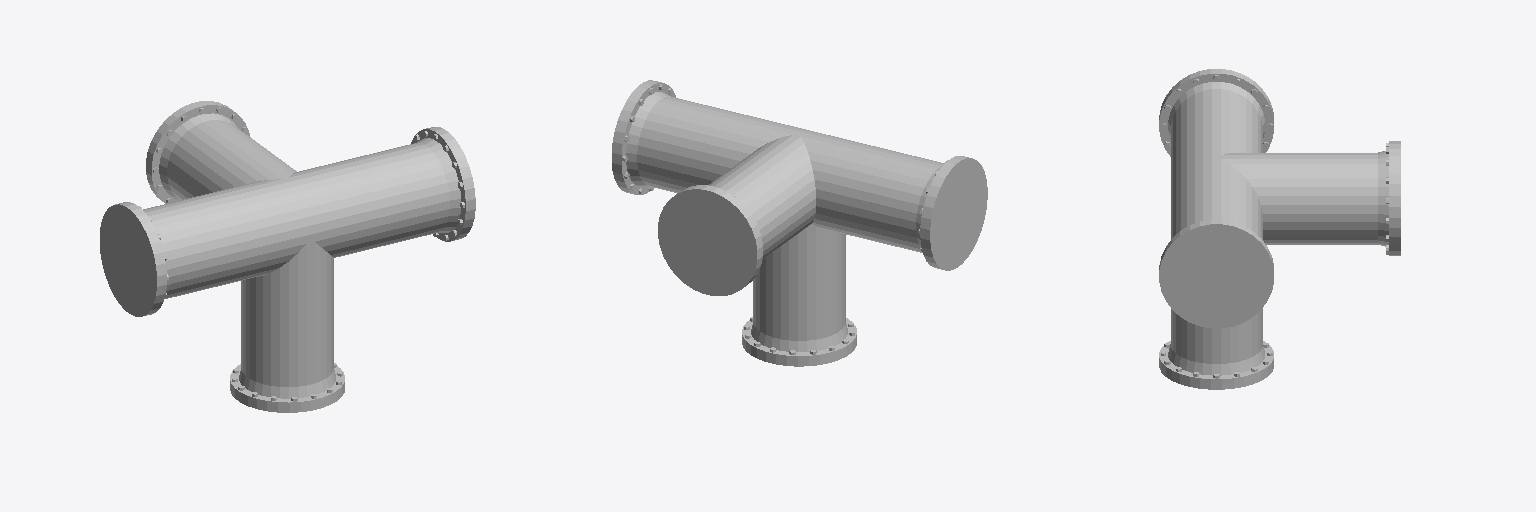
Rendered from pipeworks_pipe_7.obj.
3 views of the same model, side by side, from view 1: azimuth 30°, elevation 25°; view 2: azimuth 150°, elevation 25°; view 3: azimuth 270°, elevation 25° (orthographic).
Parts seen in each view (by area): view 1: Pipe_Cylinder.002_None.004; view 2: Pipe_Cylinder.002_None.004; view 3: Pipe_Cylinder.002_None.004.
Boxes of the visible parts, box(x1,y1,x2,y2) form: Pipe_Cylinder.002_None.004: box(100, 101, 475, 412); Pipe_Cylinder.002_None.004: box(612, 80, 987, 366); Pipe_Cylinder.002_None.004: box(1159, 69, 1400, 389).
Bounding box in the file's own units: 1 × 0.6562 × 0.6562.